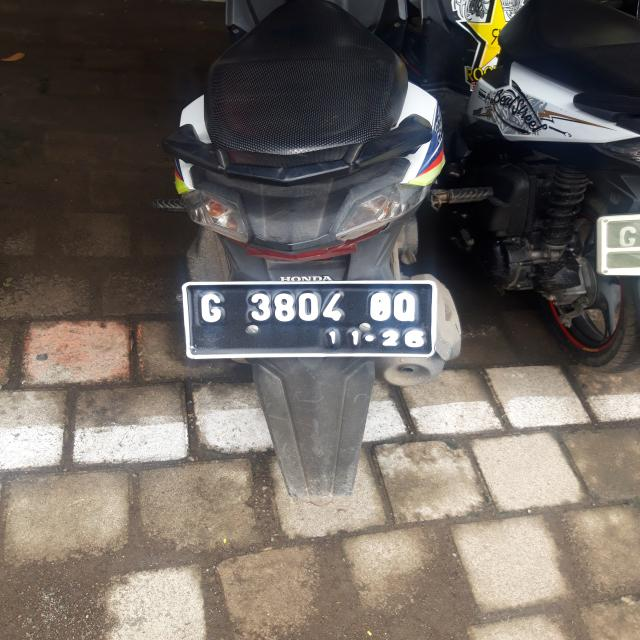plate: (184, 284, 436, 354)
